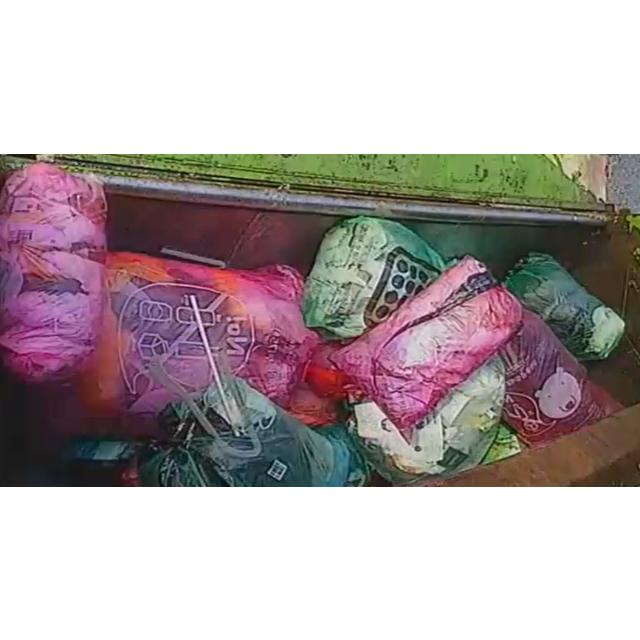general_trashbag: (142, 373, 368, 486), (302, 216, 448, 337), (504, 252, 625, 359)
other_trashbag: (330, 256, 620, 447), (44, 252, 340, 425), (0, 163, 106, 381), (501, 308, 622, 448)
